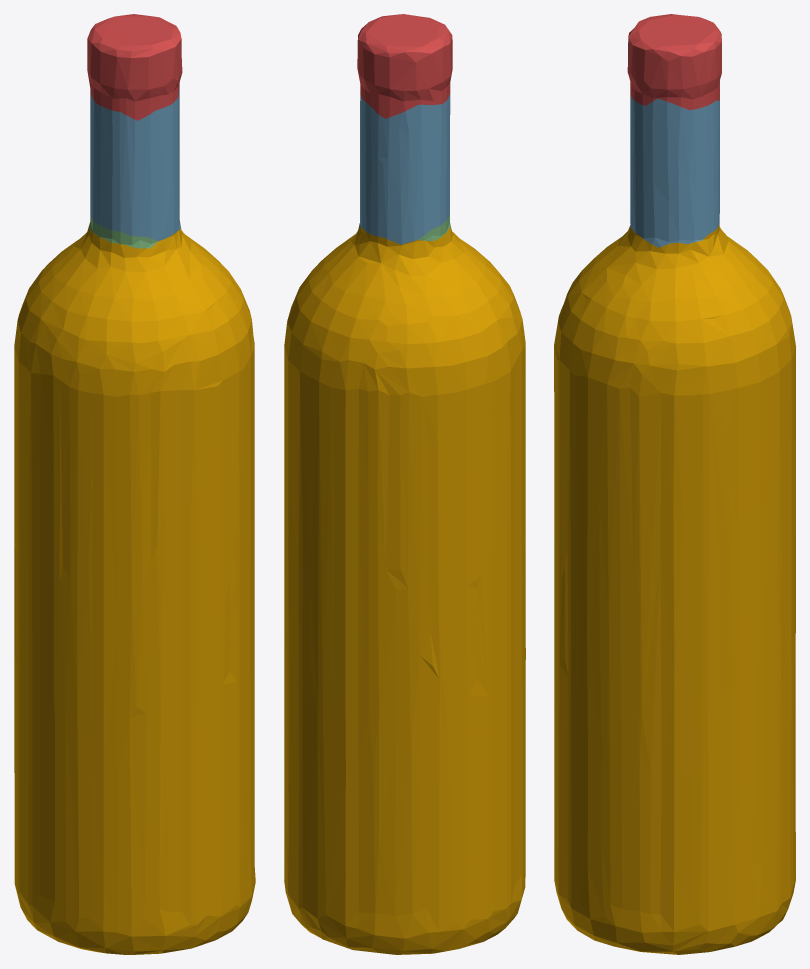
Rendered from fractured_21_4pcs.glb.
3 views of the same model, side by side, from view 1: azimuth 30°, elevation 25°; view 2: azimuth 150°, elevation 25°; view 3: azimuth 270°, elevation 25° (orthographic).
Parts seen in each view (by area): view 1: piece_0.obj, piece_2.obj, piece_1.obj, piece_3.obj; view 2: piece_0.obj, piece_2.obj, piece_1.obj; view 3: piece_0.obj, piece_2.obj, piece_1.obj.
Boxes of the visible parts, box(x1,y1,x2,y2) form: piece_0.obj: box(14, 223, 255, 954); piece_2.obj: box(90, 87, 180, 241); piece_1.obj: box(87, 14, 182, 120); piece_3.obj: box(89, 217, 157, 248); piece_0.obj: box(284, 225, 525, 954); piece_2.obj: box(359, 94, 450, 244); piece_1.obj: box(357, 14, 452, 118); piece_0.obj: box(554, 224, 795, 954); piece_2.obj: box(630, 95, 719, 247); piece_1.obj: box(627, 14, 721, 109).
Size of the model in its own units: 0.2492 by 1 by 0.2492.
